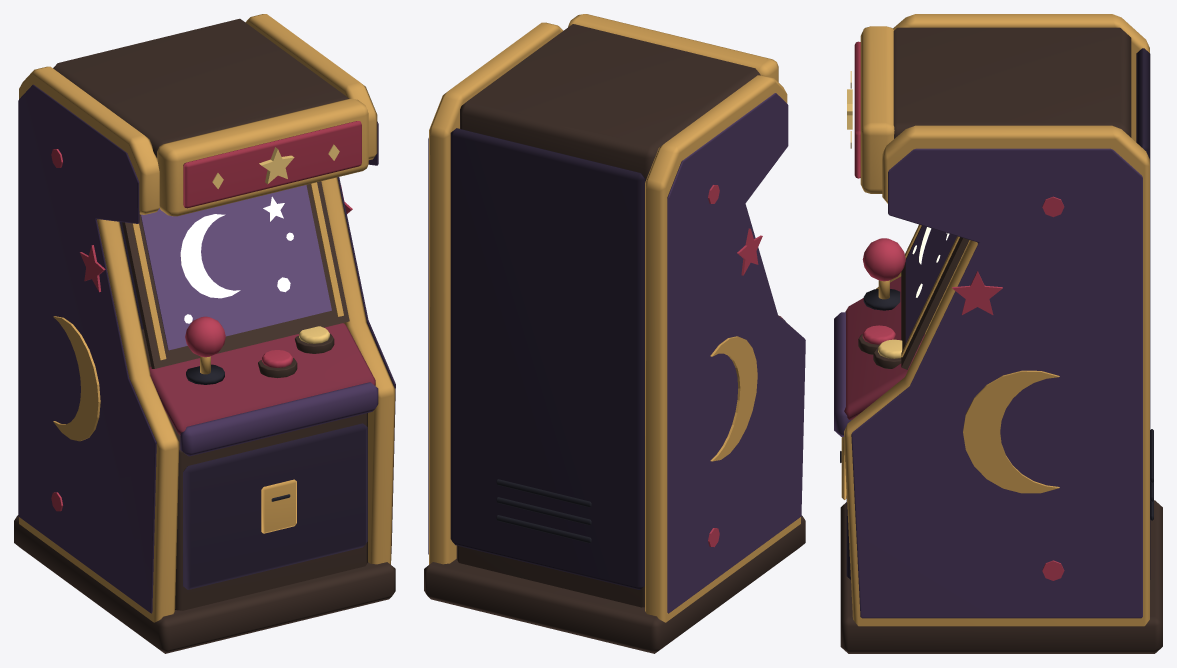
The model's file is arcade-cabinet.glb.
3 views of the same model, side by side, from view 1: azimuth 30°, elevation 25°; view 2: azimuth 150°, elevation 25°; view 3: azimuth 270°, elevation 25° (orthographic). The views are drawn at different scales.
Visible parts, largest first — view 1: arcade-cabinet; view 2: arcade-cabinet; view 3: arcade-cabinet.
Part boxes in pixels (<box>): arcade-cabinet: <box>14,14,395,653</box>; arcade-cabinet: <box>424,14,805,653</box>; arcade-cabinet: <box>834,14,1162,653</box>.
Size of the model in its own units: 0.946 by 1.79 by 1.02.
